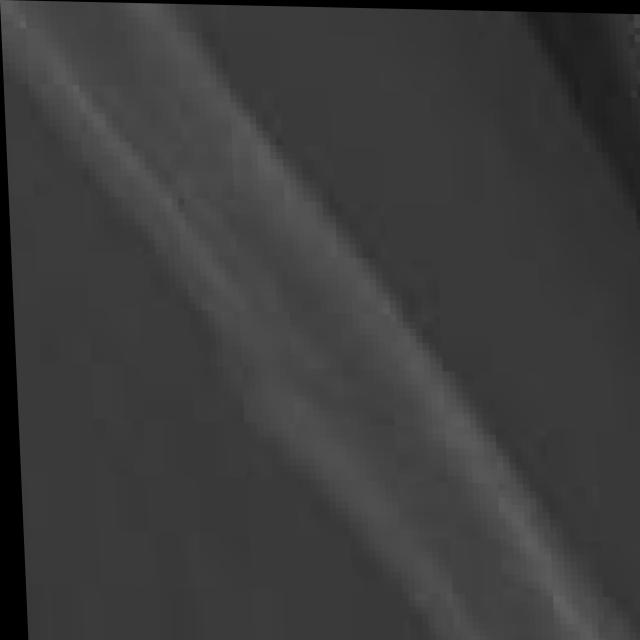fracture: (7, 5, 640, 640)
